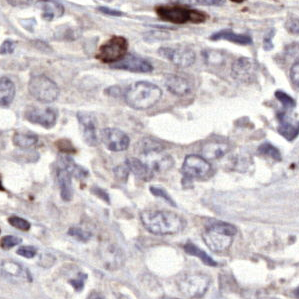Lymphocyte: (94, 36, 132, 63)
